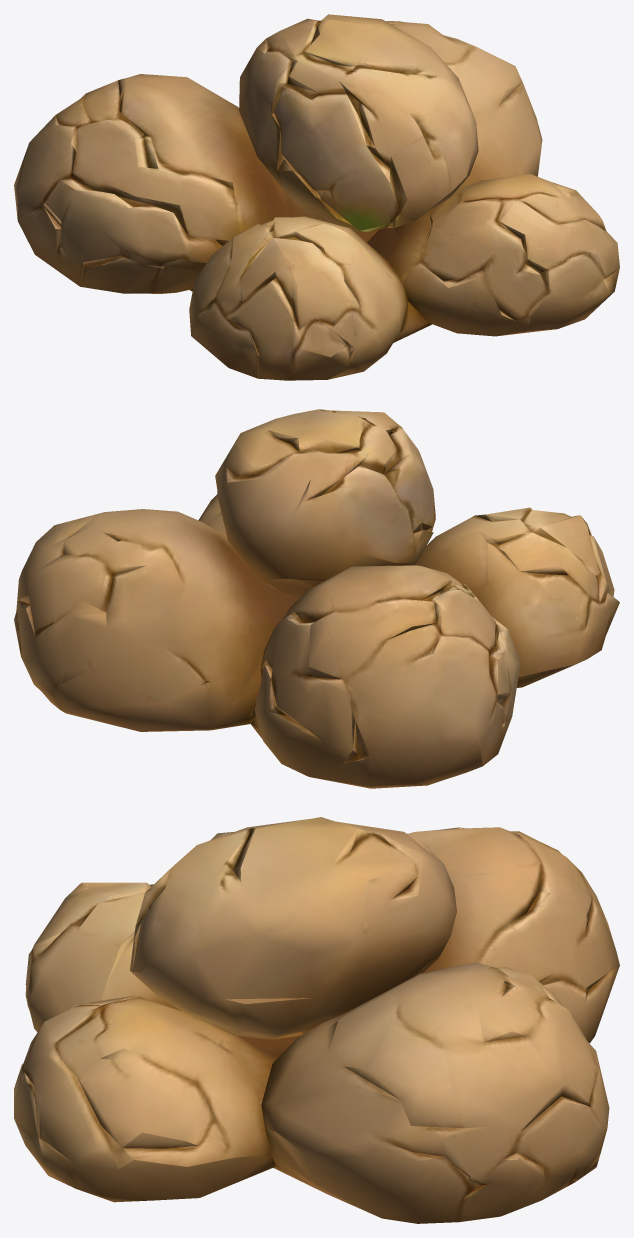
Rendered from zooRocks.glb.
The picture shows the model from 3 angles, top to bottom: view 1: azimuth 30°, elevation 25°; view 2: azimuth 150°, elevation 25°; view 3: azimuth 270°, elevation 25°; orthographic projection. The views are drawn at different scales.
Visible parts, largest first — view 1: model; view 2: model; view 3: model.
Part boxes in pixels (x1,y1,x2,y2): model: (14, 14, 619, 380); model: (14, 409, 619, 788); model: (14, 817, 619, 1223).
Size of the model in its own units: 1.9 by 0.9073 by 1.8.
Materials: 1 (1 with a texture image).
